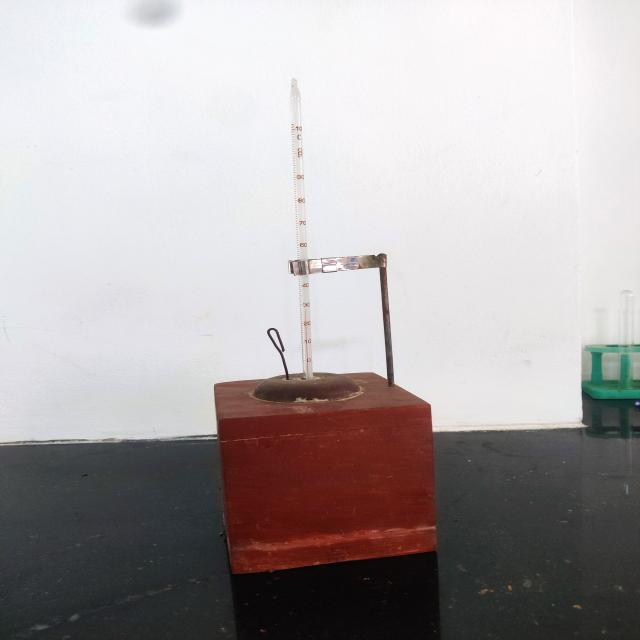Calorimeter: (196, 65, 454, 600)
